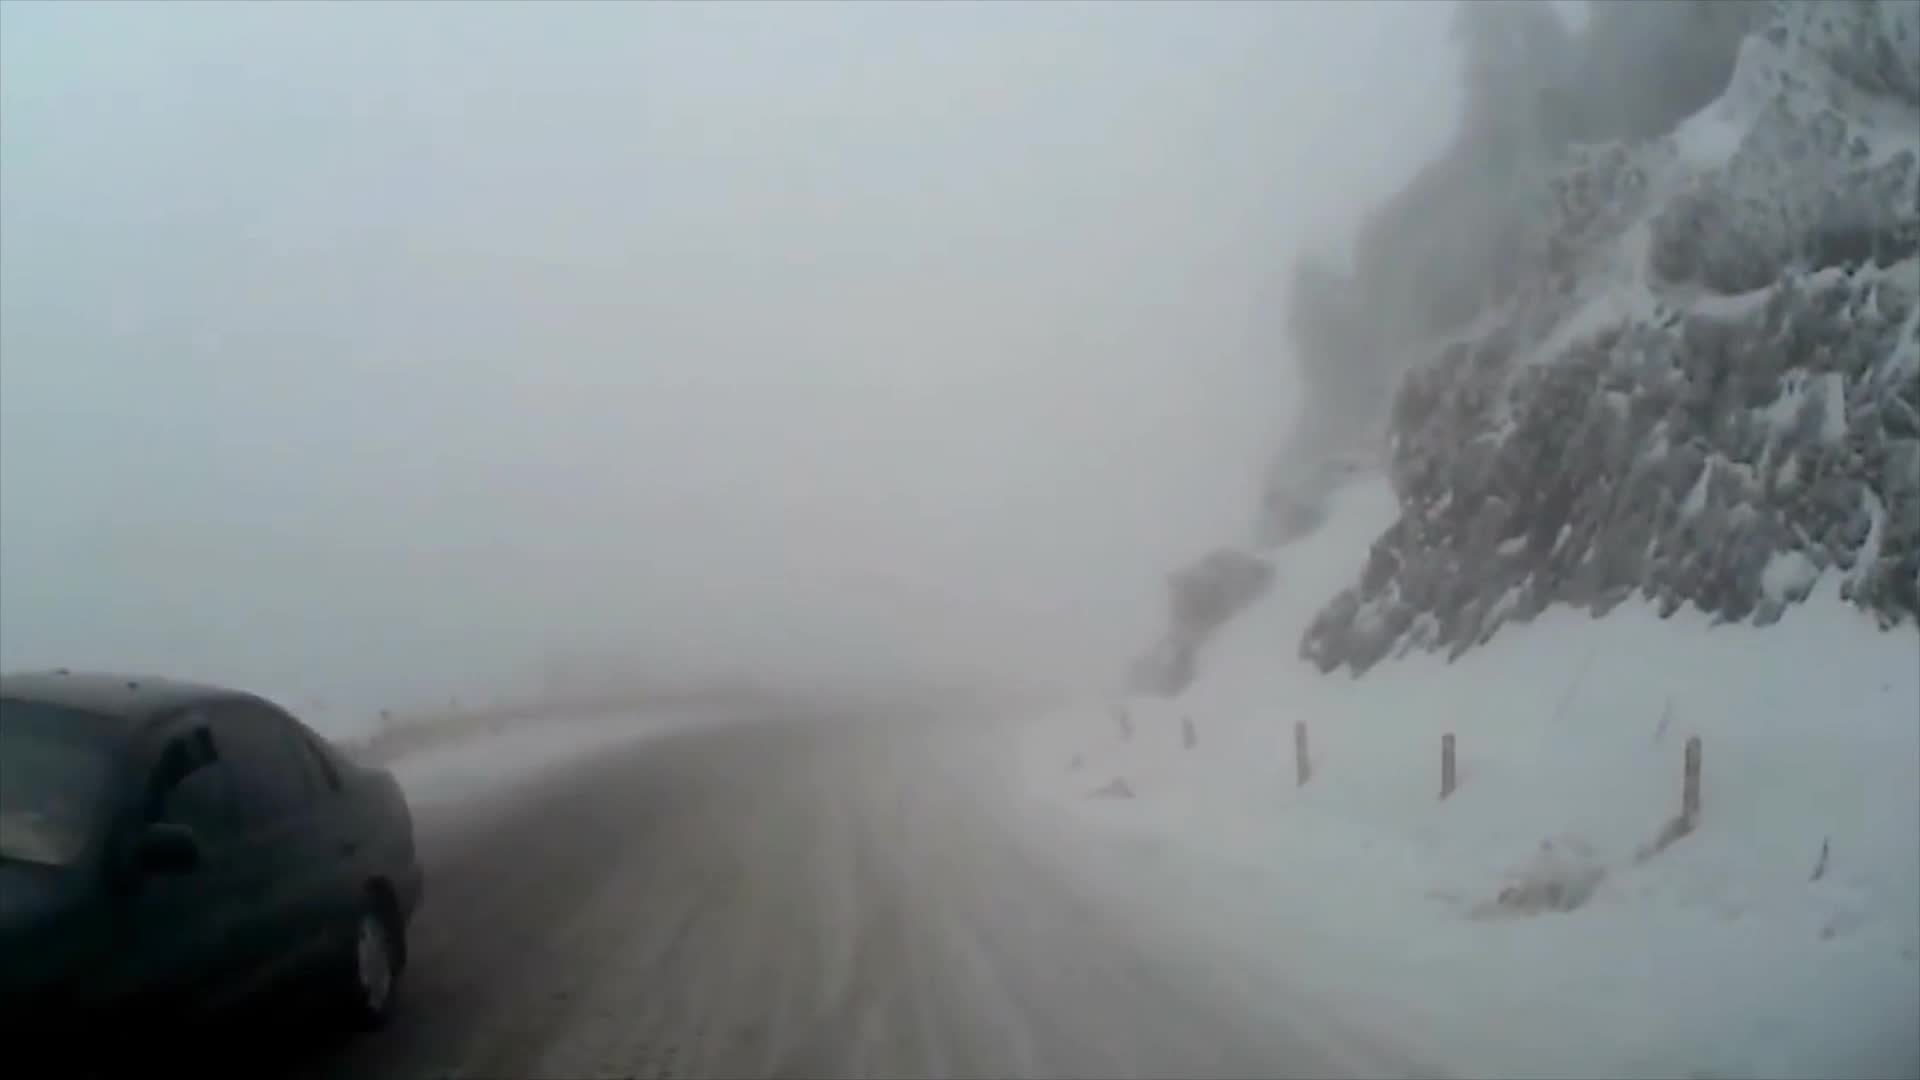vehicle: (0, 667, 427, 1077)
